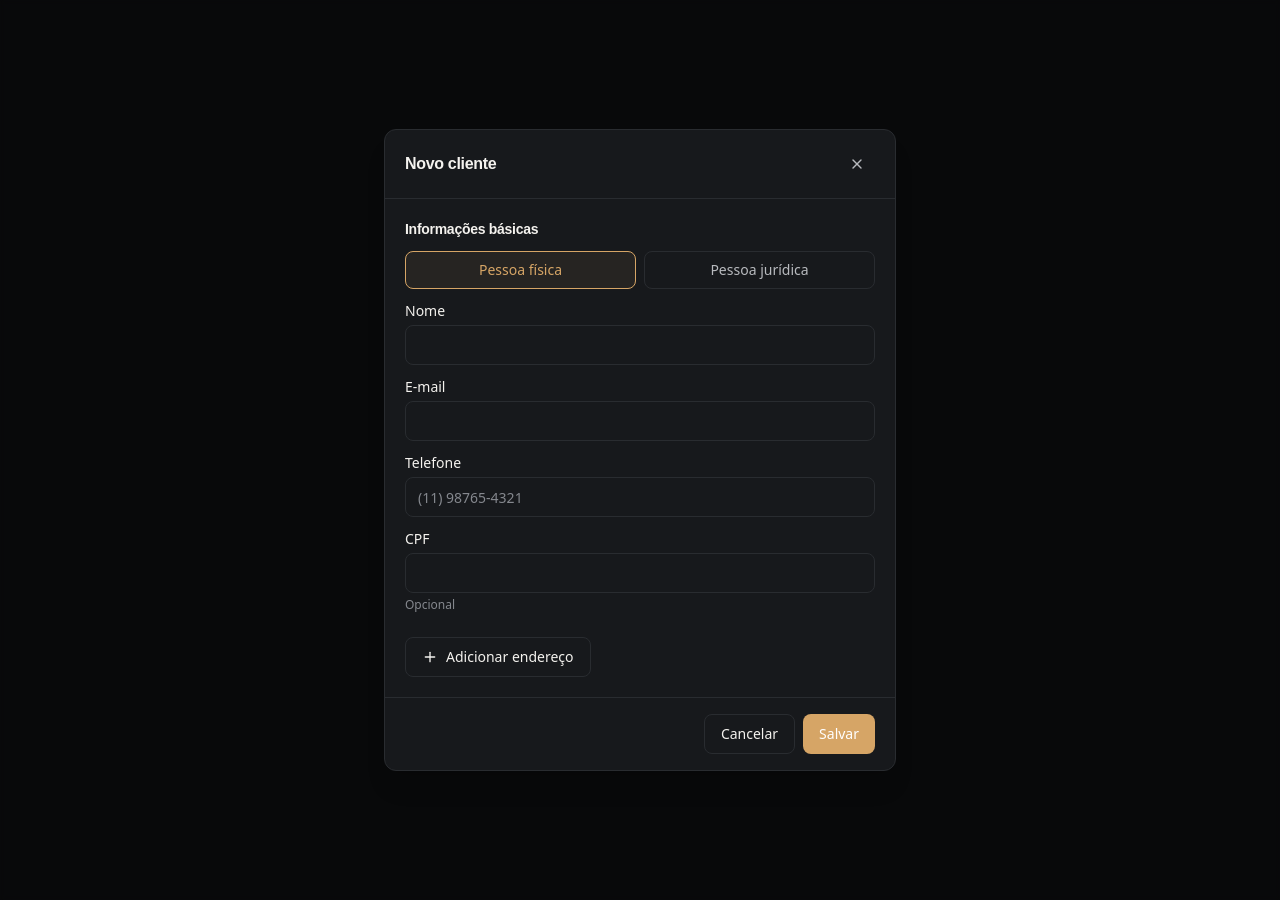
Scenario: ClientFormModal › reveals the address section only after clicking "Adicionar endereço"
Expected: the field labelled "CEP" is not shown
What coordinates should you click on to do the following:
click the button "Adicionar endereço"
I would click on:
 (498, 657)
Its box is [405, 637, 590, 677].
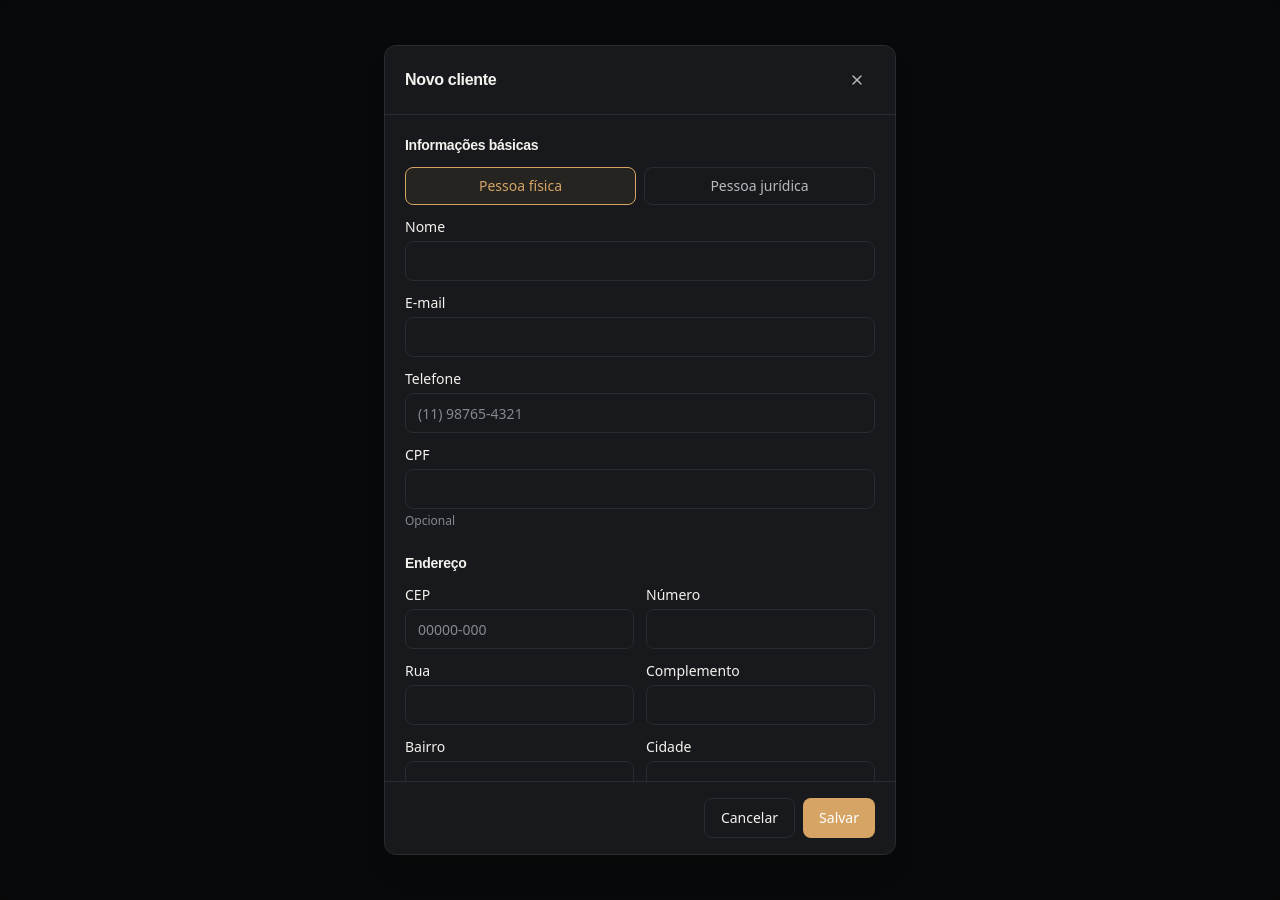
Expected: the field labelled "CEP" is shown, [405, 609, 634, 649]
